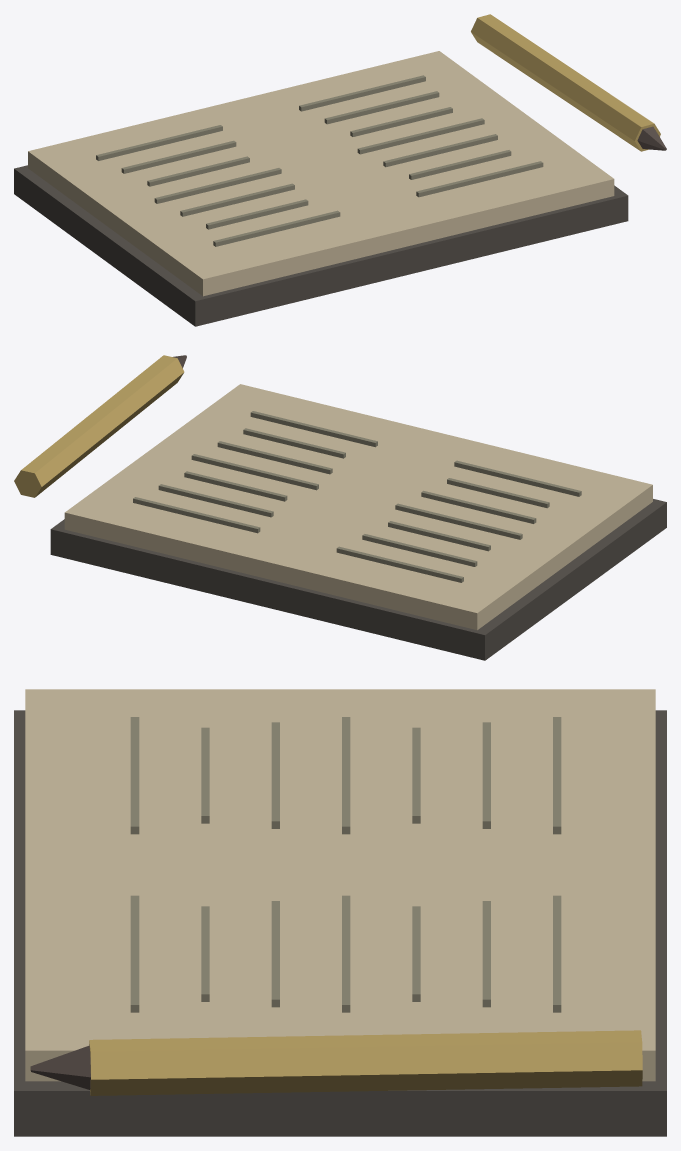
The model's file is field_log.glb.
3 renders of one model, top to bottom at view 1: azimuth 30°, elevation 25°; view 2: azimuth 150°, elevation 25°; view 3: azimuth 270°, elevation 25°, orthographic. The views are drawn at different scales.
Parts seen in each view (by area): view 1: field_log; view 2: field_log; view 3: field_log.
Boxes of the visible parts, x1=… form: field_log: x1=14, y1=14, x2=666, y2=326; field_log: x1=14, y1=355, x2=666, y2=660; field_log: x1=14, y1=689, x2=666, y2=1136.
Bounding box in the file's own units: 0.36 × 0.0497 × 0.232.
